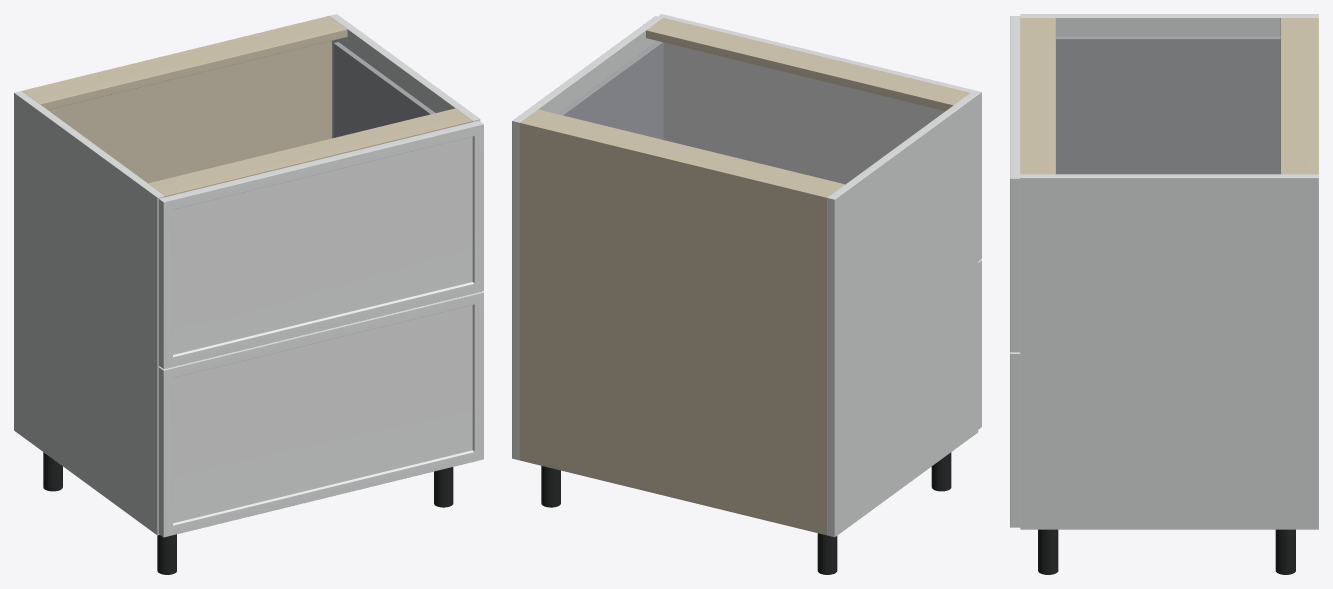
The model's file is oppein-ply-ssw-2db30.glb.
3 views of the same model, side by side, from view 1: azimuth 30°, elevation 25°; view 2: azimuth 150°, elevation 25°; view 3: azimuth 270°, elevation 25° (orthographic). The views are drawn at different scales.
Parts seen in each view (by area): view 1: Drawer front.001, Drawer front, Cabinet side, Cabinet back, Top support rail, Top support rail.001, Drawer side.003, Cabinet side.001, Adjustable foot.001, Adjustable foot.003, Adjustable foot; view 2: Cabinet back, Cabinet side, Drawer front.001, Top support rail.001, Cabinet side.001, Drawer side.003, Top support rail, Adjustable foot, Adjustable foot.002, Cabinet bottom, Drawer front, Adjustable foot.001; view 3: Cabinet side.001, Drawer side.002, Top support rail.001, Cabinet side, Top support rail, Drawer front.001, Drawer front, Adjustable foot.003, Adjustable foot.002, Cabinet back.
Part boxes in pixels (x1=…): Drawer front.001: x1=158, y1=120, x2=483, y2=368; Drawer front: x1=158, y1=291, x2=483, y2=537; Cabinet side: x1=14, y1=91, x2=164, y2=535; Cabinet back: x1=22, y1=16, x2=331, y2=183; Top support rail: x1=23, y1=17, x2=347, y2=109; Top support rail.001: x1=148, y1=108, x2=472, y2=196; Drawer side.003: x1=333, y1=42, x2=435, y2=137; Cabinet side.001: x1=329, y1=14, x2=480, y2=138; Adjustable foot.001: x1=157, y1=534, x2=176, y2=574; Adjustable foot.003: x1=434, y1=467, x2=453, y2=507; Adjustable foot: x1=43, y1=452, x2=62, y2=491; Cabinet back: x1=519, y1=120, x2=829, y2=534; Cabinet side: x1=827, y1=93, x2=978, y2=537; Drawer front.001: x1=658, y1=14, x2=981, y2=261; Top support rail.001: x1=646, y1=18, x2=969, y2=110; Cabinet side.001: x1=512, y1=16, x2=662, y2=460; Drawer side.003: x1=558, y1=41, x2=663, y2=139; Top support rail: x1=523, y1=109, x2=844, y2=195; Adjustable foot: x1=817, y1=533, x2=837, y2=574; Adjustable foot.002: x1=541, y1=466, x2=560, y2=507; Cabinet bottom: x1=519, y1=456, x2=826, y2=535; Drawer front: x1=978, y1=260, x2=981, y2=429; Adjustable foot.001: x1=931, y1=452, x2=951, y2=491; Cabinet side.001: x1=1020, y1=174, x2=1318, y2=529; Drawer side.002: x1=1056, y1=36, x2=1280, y2=174; Top support rail.001: x1=1020, y1=18, x2=1055, y2=174; Cabinet side: x1=1020, y1=14, x2=1318, y2=36; Top support rail: x1=1280, y1=18, x2=1315, y2=174; Drawer front.001: x1=1010, y1=16, x2=1020, y2=352; Drawer front: x1=1010, y1=352, x2=1020, y2=527; Adjustable foot.003: x1=1038, y1=529, x2=1058, y2=574; Adjustable foot.002: x1=1275, y1=529, x2=1295, y2=574; Cabinet back: x1=1313, y1=18, x2=1318, y2=174.
Size of the model in its own units: 0.762 by 0.8763 by 0.6064.
